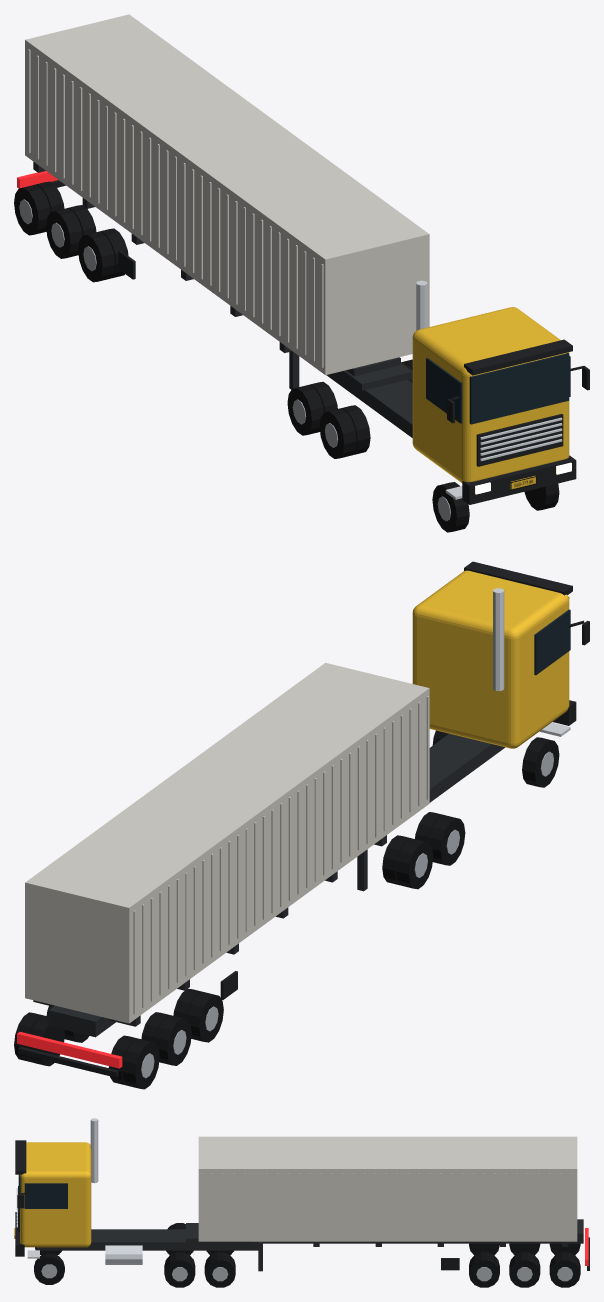
Rendered from truck_d.glb.
3 renders of one model, top to bottom at view 1: azimuth 30°, elevation 25°; view 2: azimuth 150°, elevation 25°; view 3: azimuth 270°, elevation 25°, orthographic. The views are drawn at different scales.
Parts seen in each view (by area): view 1: truck; view 2: truck; view 3: truck.
Boxes of the visible parts, left/top/right/bottom form: truck: left=14, top=14, right=589, bottom=532; truck: left=14, top=561, right=589, bottom=1089; truck: left=14, top=1118, right=589, bottom=1287.
Bounding box in the file's own units: 3.22 × 4.89 × 18.54.
11 materials, 1 textured.
